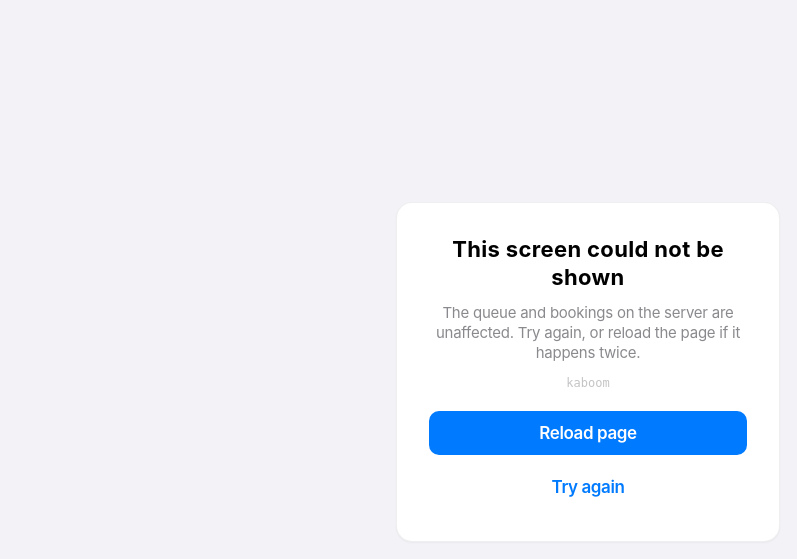
Scenario: ErrorBoundary › recovers when Try again is clicked and the child no longer throws
Expected: the message is shown, [396,202,780,542]
Click the button "Try again" at [588, 487], box [429,465,747,509]
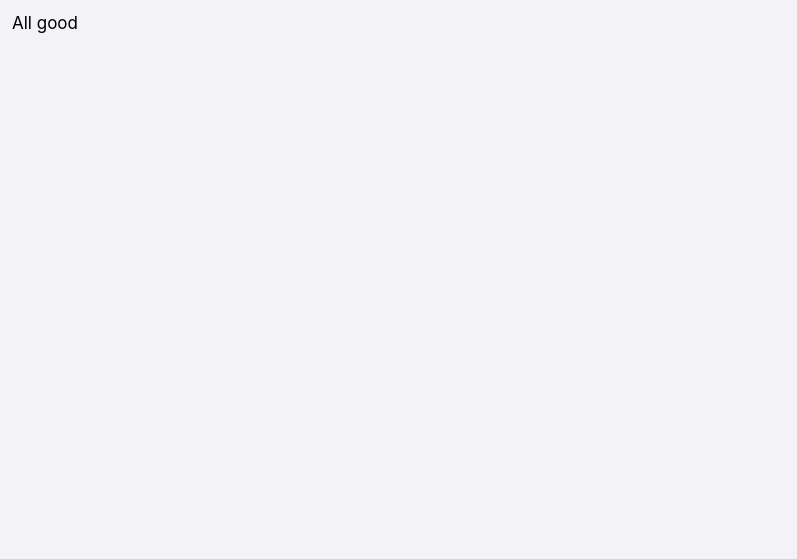
Now the message is gone
Now the text "All good" is shown, box [12,13,78,33]
